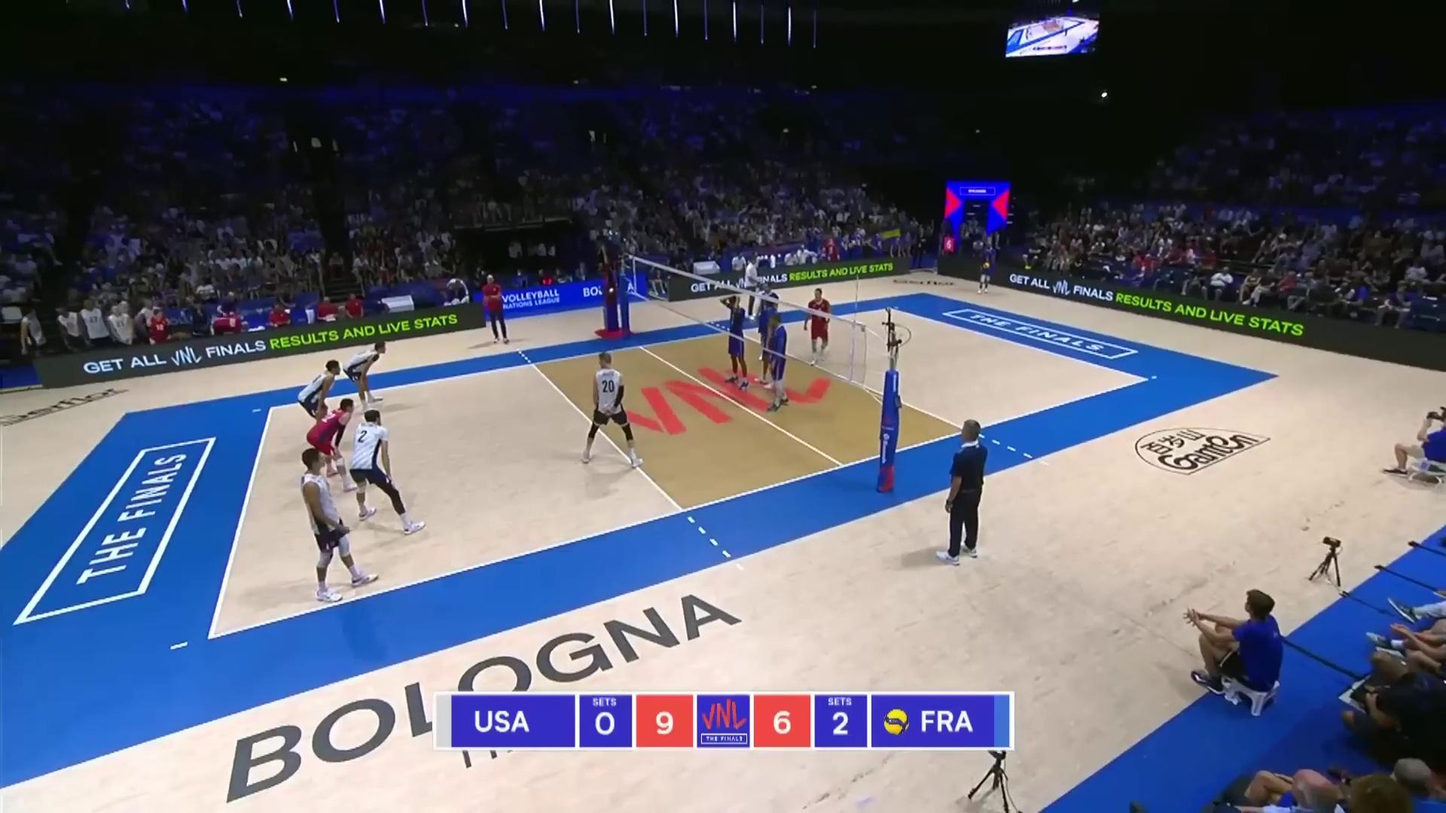player: (301, 449, 379, 602), (350, 411, 425, 534), (577, 353, 644, 467), (307, 398, 356, 491), (301, 362, 350, 435), (763, 308, 796, 408), (343, 342, 389, 407), (727, 295, 753, 387), (803, 288, 830, 360), (757, 285, 779, 361)
refree: (937, 418, 988, 568)
